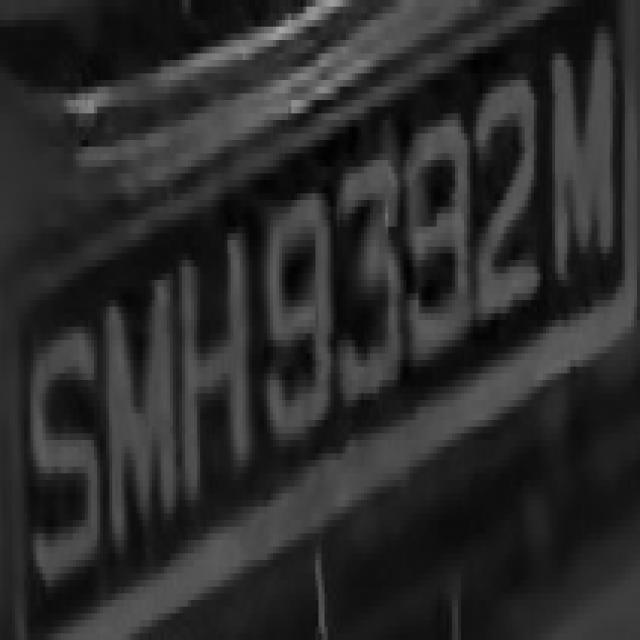2: (464, 67, 549, 333)
3: (324, 167, 404, 413)
9: (255, 174, 343, 454), (394, 107, 473, 373)
H: (176, 234, 252, 494)
M: (100, 287, 188, 553), (543, 13, 628, 287)
S: (21, 287, 100, 593)
